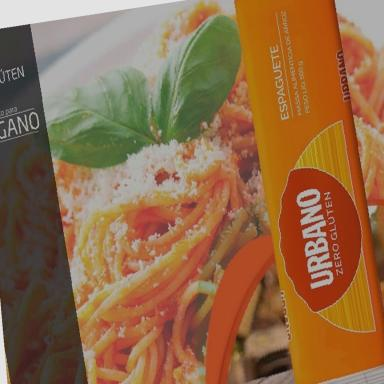pasta package: (236, 0, 383, 383)
